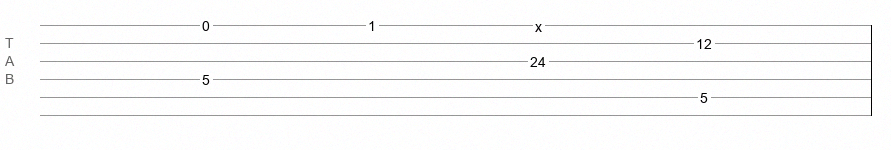0: (202, 18, 210, 28)
1: (368, 18, 376, 28)
12: (696, 36, 712, 46)
24: (530, 54, 546, 64)
5: (202, 72, 210, 82), (700, 90, 708, 100)
x: (535, 19, 542, 27)
